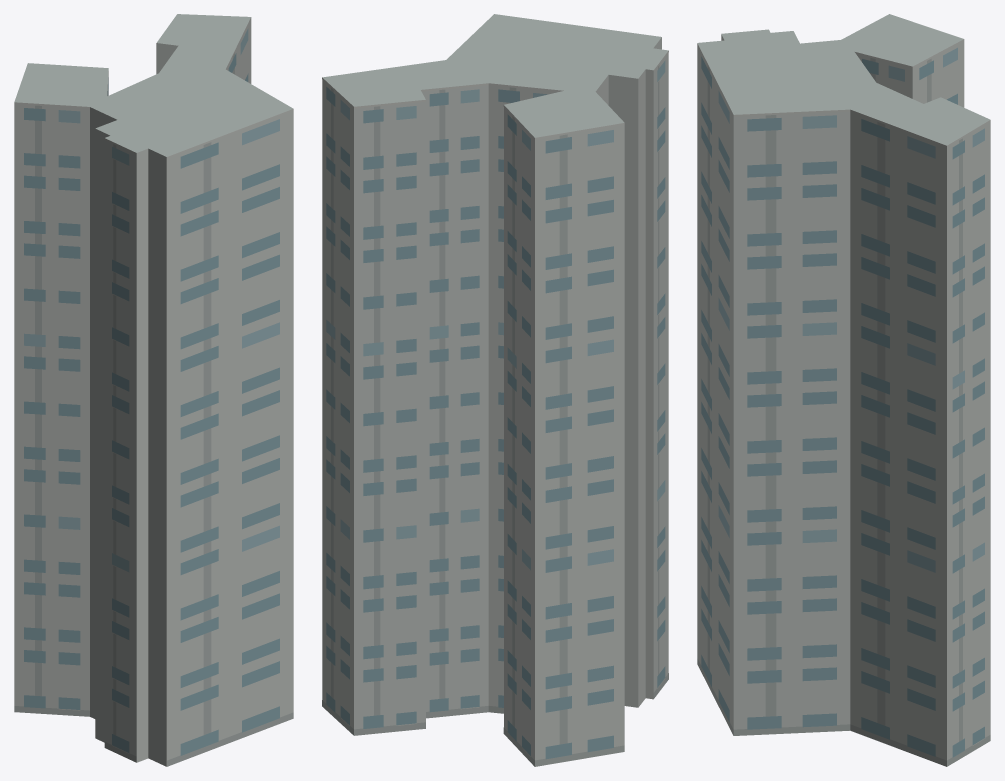
File: residential-0639595a-6a9b-4e6b-90b7-26cc04f20e40.glb
The picture shows the model from 3 angles, left to right: view 1: azimuth 30°, elevation 25°; view 2: azimuth 150°, elevation 25°; view 3: azimuth 270°, elevation 25°; orthographic projection. The views are drawn at different scales.
Visible parts, largest first — view 1: residential-0639595a-6a9b-4e6b-90b7-26cc04f20e40.tmp; view 2: residential-0639595a-6a9b-4e6b-90b7-26cc04f20e40.tmp; view 3: residential-0639595a-6a9b-4e6b-90b7-26cc04f20e40.tmp.
Boxes of the visible parts, x1,y1,x2,y2 form: residential-0639595a-6a9b-4e6b-90b7-26cc04f20e40.tmp: (14,14,293,766); residential-0639595a-6a9b-4e6b-90b7-26cc04f20e40.tmp: (322,14,668,766); residential-0639595a-6a9b-4e6b-90b7-26cc04f20e40.tmp: (697,14,990,766).
Bounding box in the file's own units: 35.04 × 77 × 32.97.
